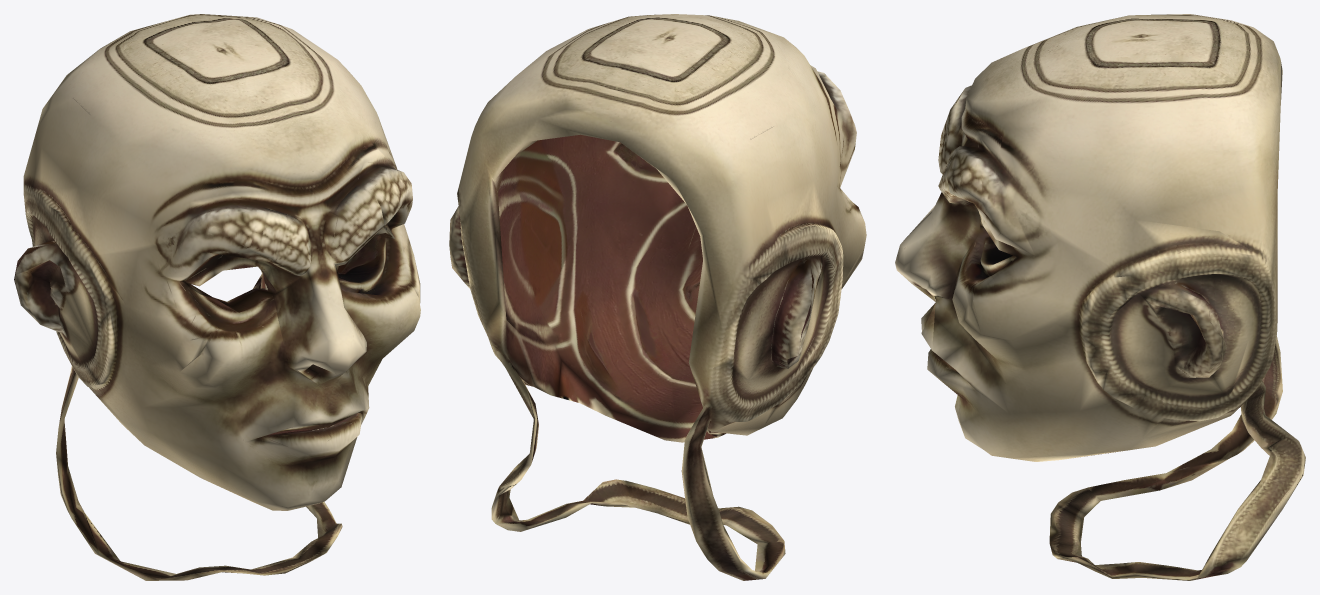
Rendered from 15_mask.fbx.
3 views of the same model, side by side, from view 1: azimuth 30°, elevation 25°; view 2: azimuth 150°, elevation 25°; view 3: azimuth 270°, elevation 25° (orthographic). The views are drawn at different scales.
Parts seen in each view (by area): view 1: Mesh1.0; view 2: Mesh1.0; view 3: Mesh1.0.
Part boxes in pixels (x1=…): Mesh1.0: x1=14, y1=14, x2=420, y2=580; Mesh1.0: x1=449, y1=14, x2=866, y2=580; Mesh1.0: x1=895, y1=14, x2=1305, y2=580.
Size of the model in its own units: 139 by 189 by 139.
Materials: 1 (1 with a texture image).
